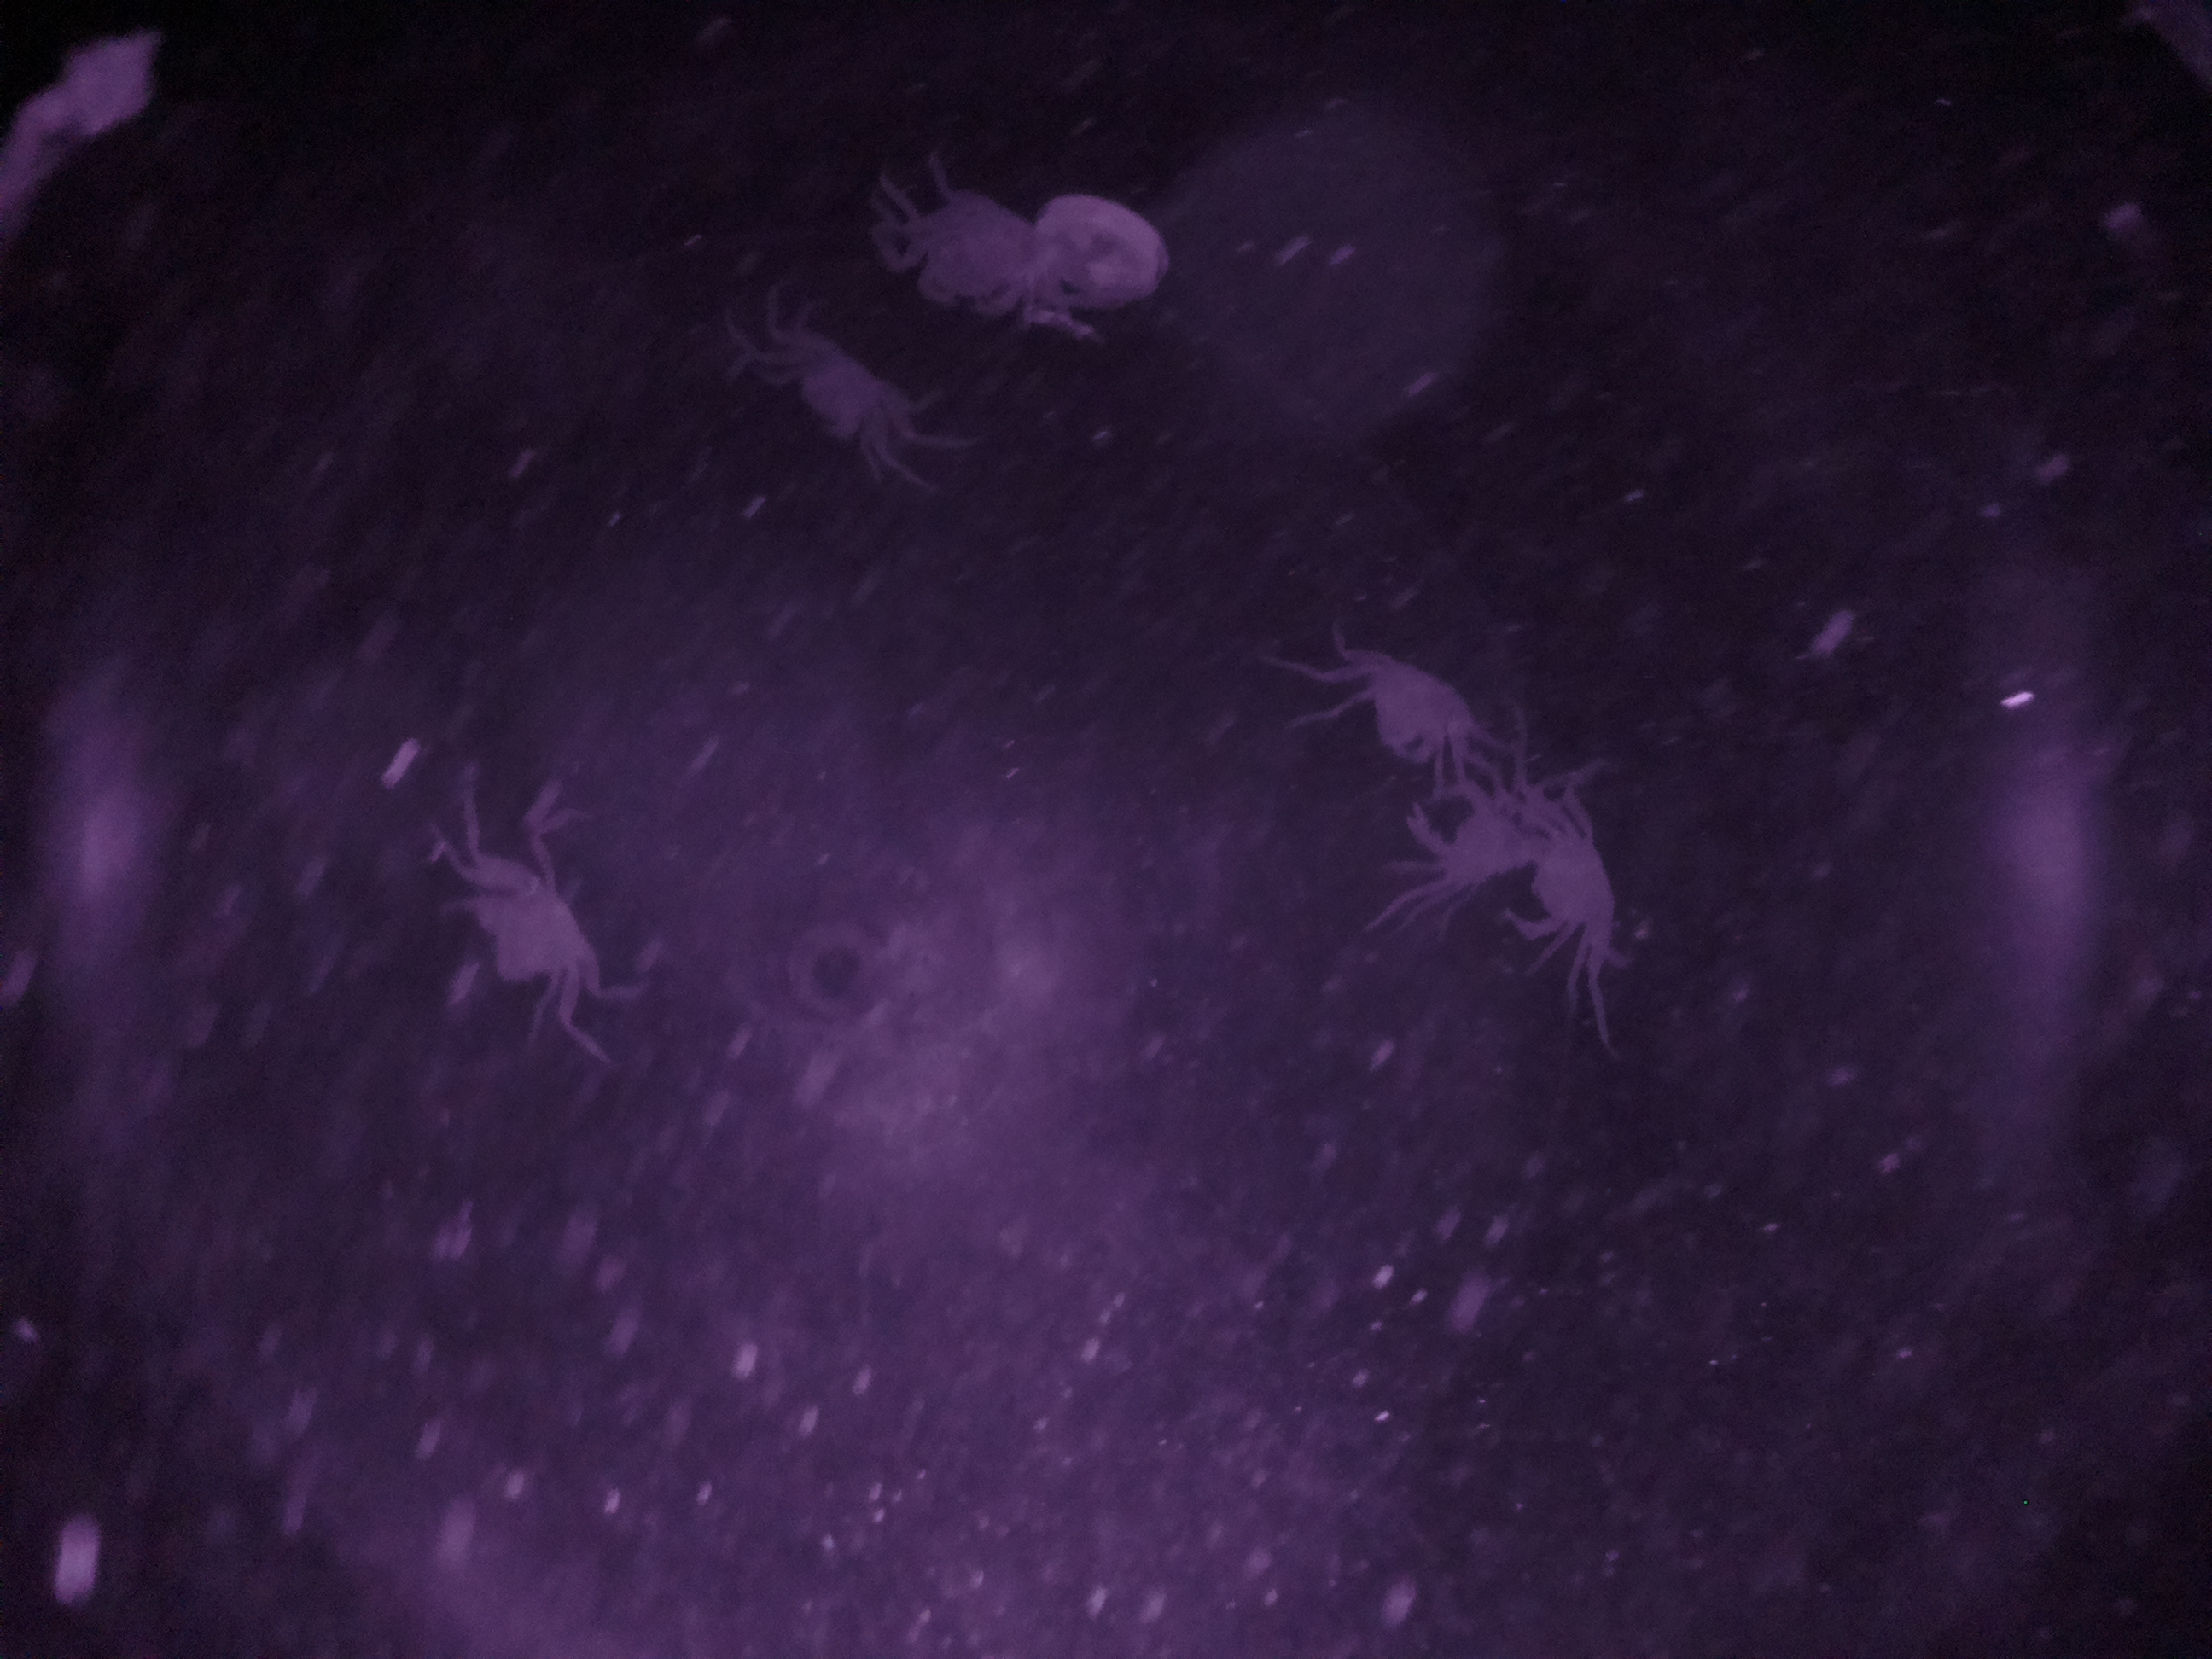Crab: (749, 295, 946, 490)
